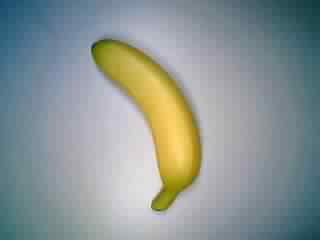banana: (86, 36, 210, 215)
